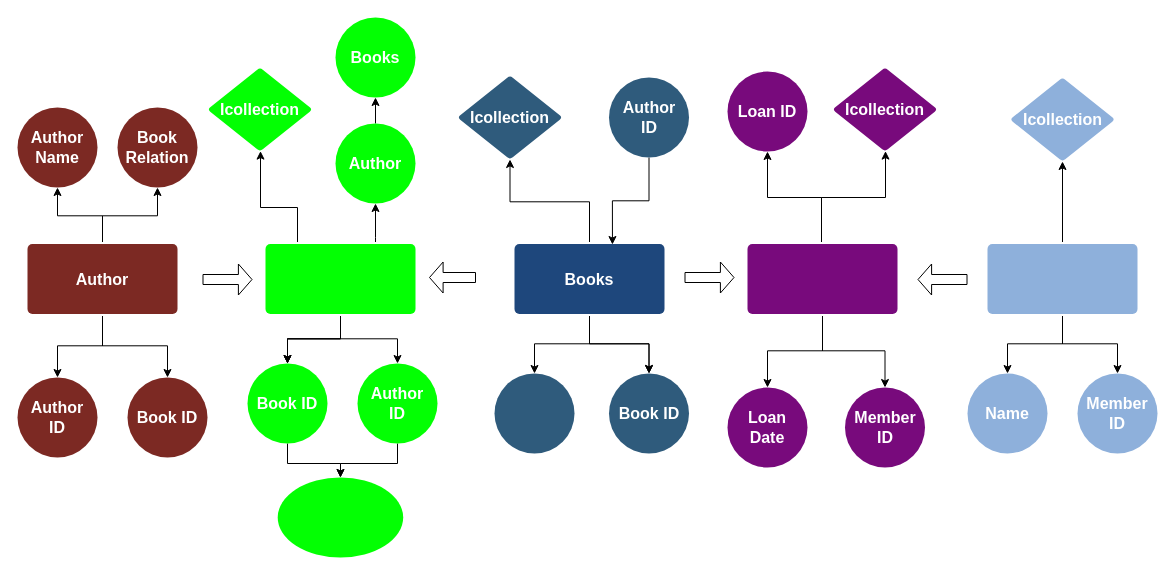
This 1174x574 diagram has some shape labels left out. The shapes that lost their labels are listed below. From the top down, each one's box as (x1, y1, x2, y2) in pixels, then its label:
(265, 244, 415, 314): Books / Author
(747, 244, 897, 314): Loans
(987, 244, 1137, 314): Members
(494, 373, 574, 453): Title
(277, 477, 403, 557): BookAuthorID
